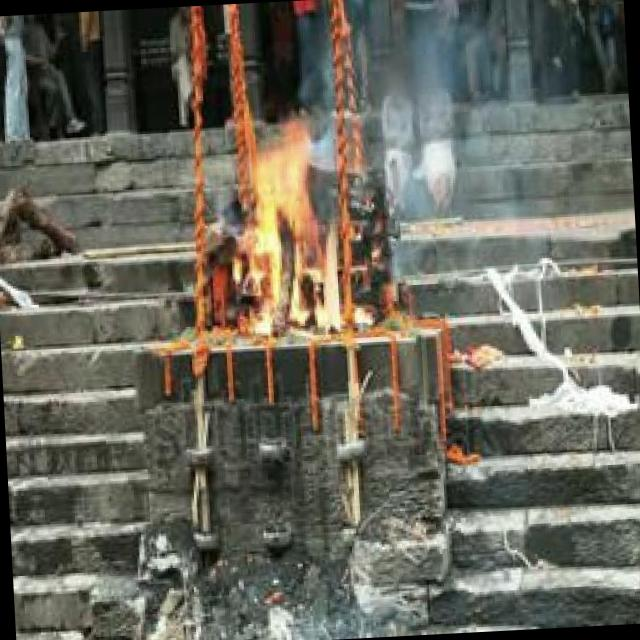Fire: (229, 124, 352, 343)
